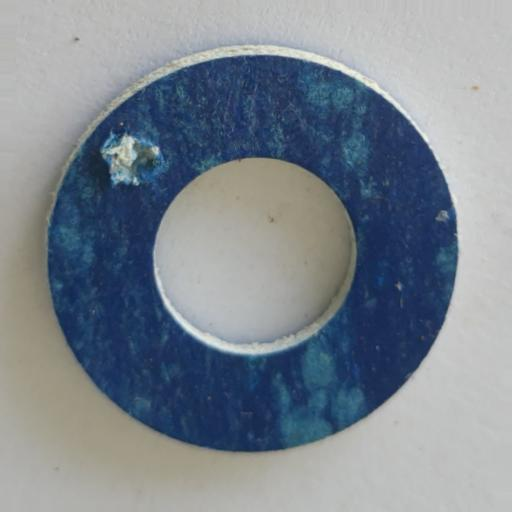defect: (101, 129, 168, 188)
